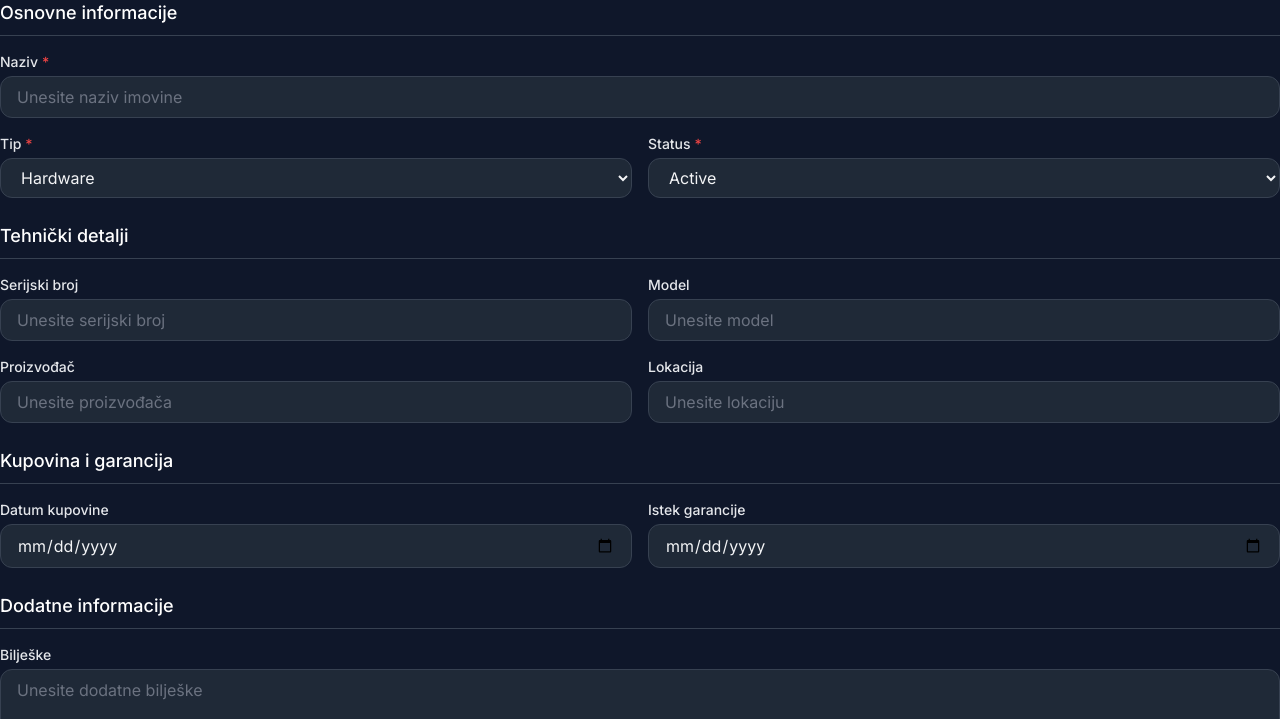
Test case: AssetForm › displays validation errors for required fields when submitting empty form
// Clear the name field (it starts empty)
Clear the field labelled "Naziv*" at (640, 97), box [0, 76, 1279, 118]
(page scrolled)
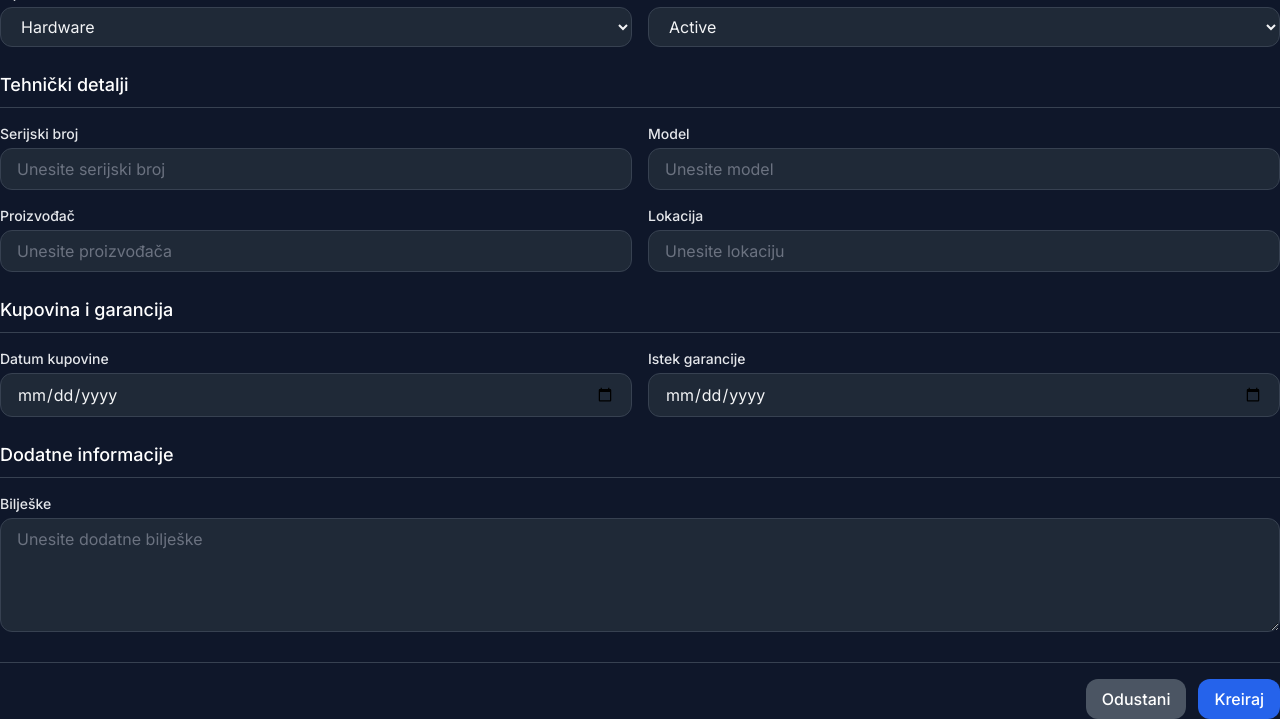
// Submit form
Click the button "Kreiraj" at (1239, 699), box [1198, 679, 1279, 718]
(page scrolled)
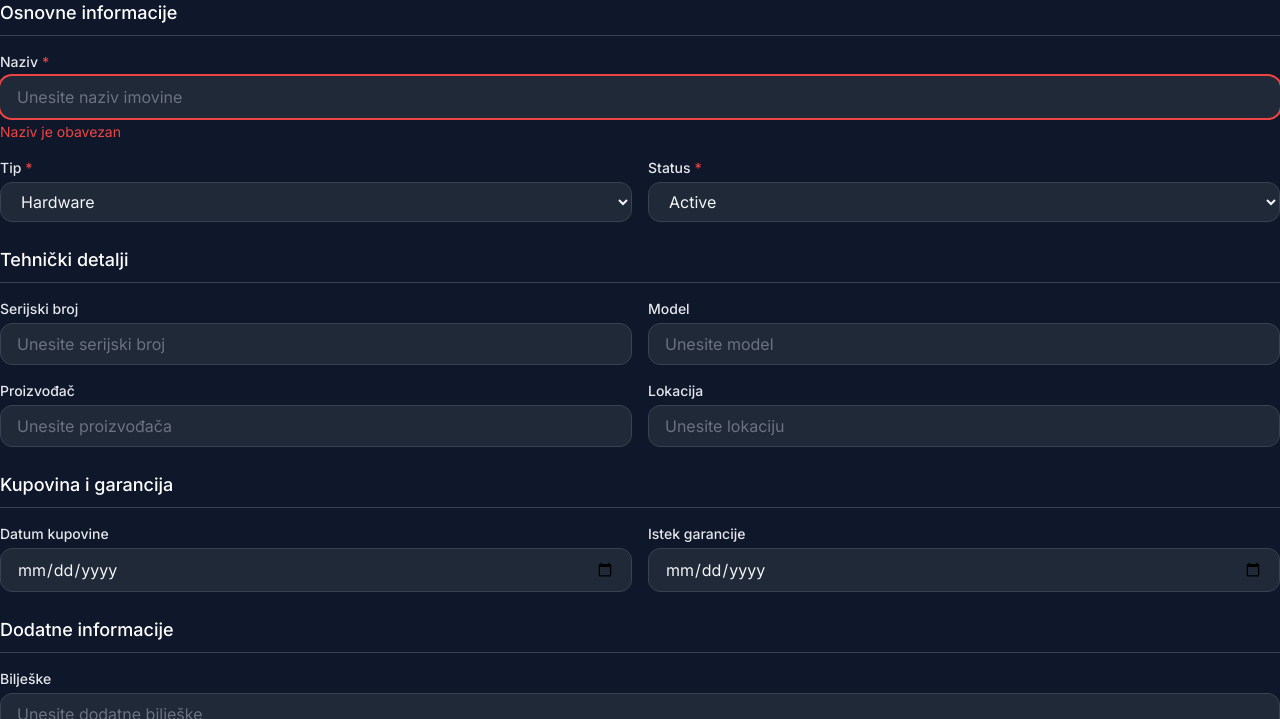
Expected: the text "Naziv je obavezan" is shown, [0, 123, 121, 140]
